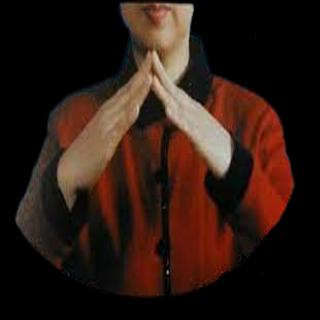HOME: (60, 48, 234, 194)
